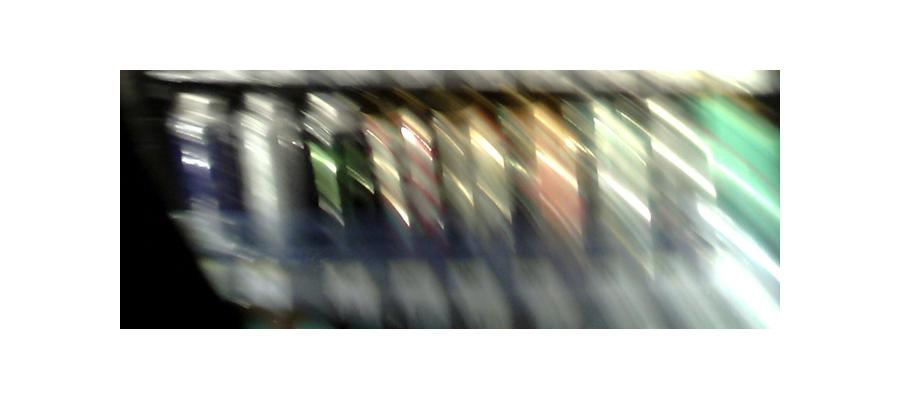bottle: (236, 87, 304, 293)
